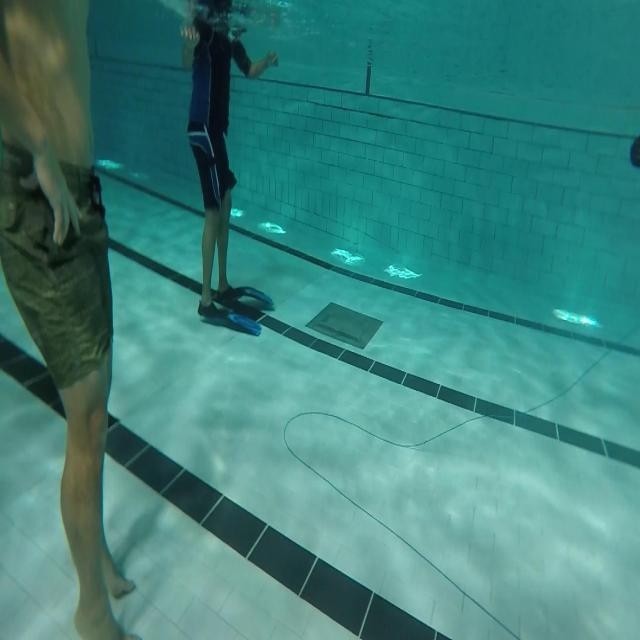human: (0, 0, 142, 638), (182, 0, 279, 323)
